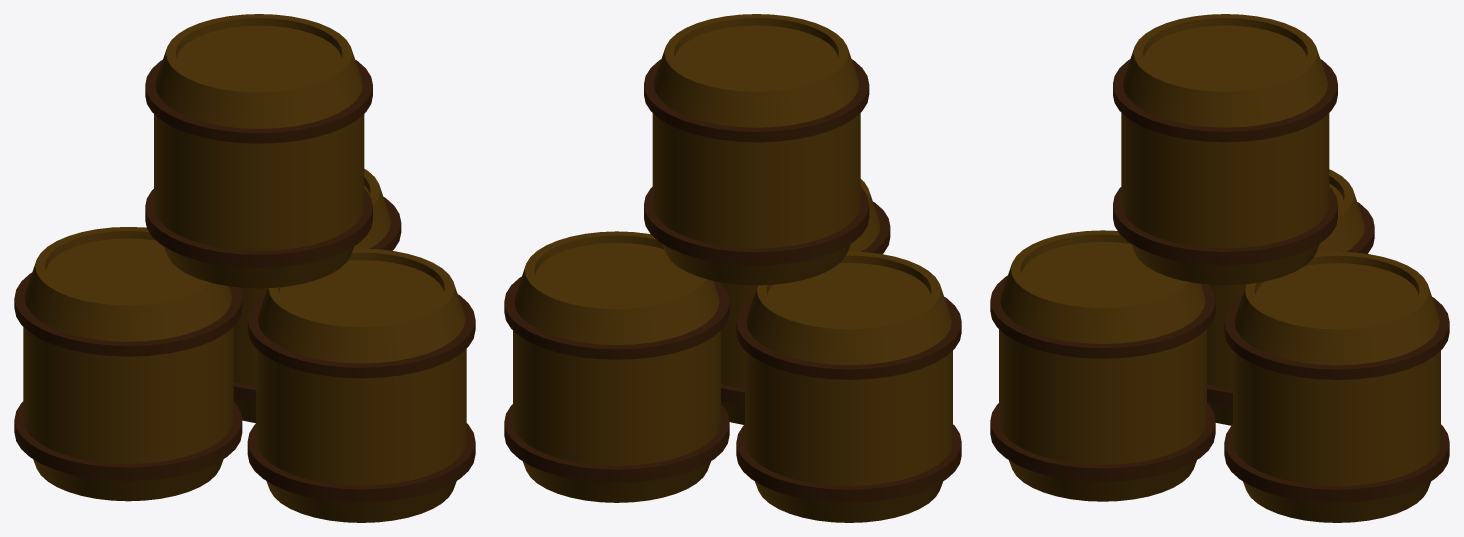
The model's file is 3barrel.fbx.
3 renders of one model, left to right at view 1: azimuth 30°, elevation 25°; view 2: azimuth 150°, elevation 25°; view 3: azimuth 270°, elevation 25°, orthographic.
Parts seen in each view (by area): view 1: Cylinder_2, Cylinder, Cylinder_1, Cylinder_3; view 2: Cylinder_2, Cylinder_3, Cylinder_1, Cylinder; view 3: Cylinder_2, Cylinder_3, Cylinder, Cylinder_1.
Boxes of the visible parts, x1,y1,x2,y2 form: Cylinder_2: (145, 14, 372, 288); Cylinder: (247, 248, 475, 522); Cylinder_1: (14, 227, 242, 501); Cylinder_3: (233, 169, 401, 423); Cylinder_2: (644, 14, 869, 285); Cylinder_3: (504, 231, 729, 502); Cylinder_1: (736, 251, 961, 522); Cylinder: (719, 179, 890, 424); Cylinder_2: (1113, 14, 1337, 285); Cylinder_3: (1224, 251, 1449, 522); Cylinder: (990, 230, 1215, 501); Cylinder_1: (1207, 169, 1374, 425).
Bounding box in the file's own units: 421 × 403 × 430.
